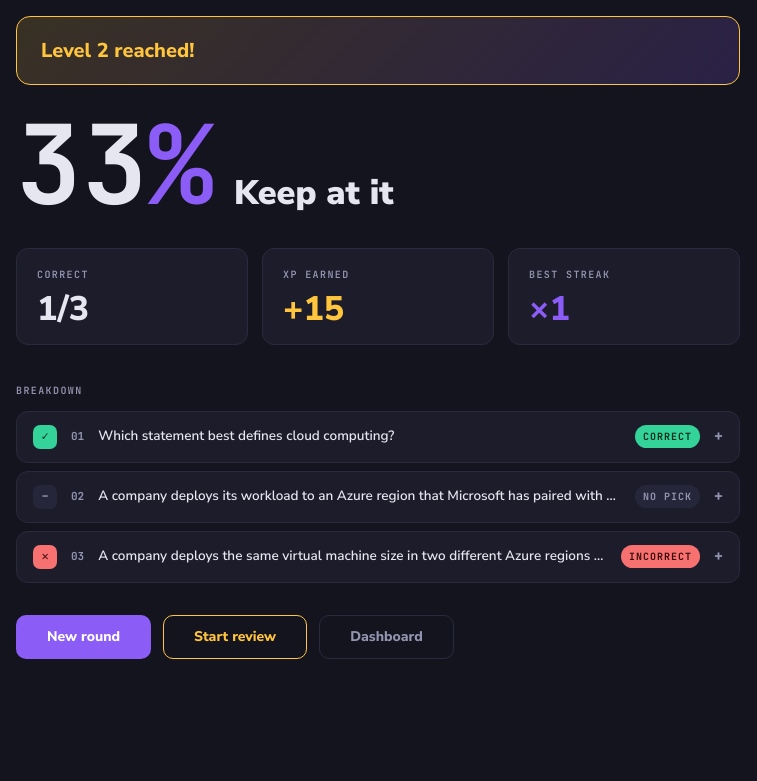
Scenario: ResultsView › renders a Round results page from the Session and its Answers, with a No pick tag for a Sprint timeout
Expected: the message "Level 2 reached!" is shown, [16,16,740,85]
Expected: the elements with class "chip" read "Correct", "No pick", "Incorrect", in this order, [635,425,700,448]; [635,485,700,508]; [621,545,700,568]
Click the 2nd button. click: click(378, 496)
box: [17,472,739,522]
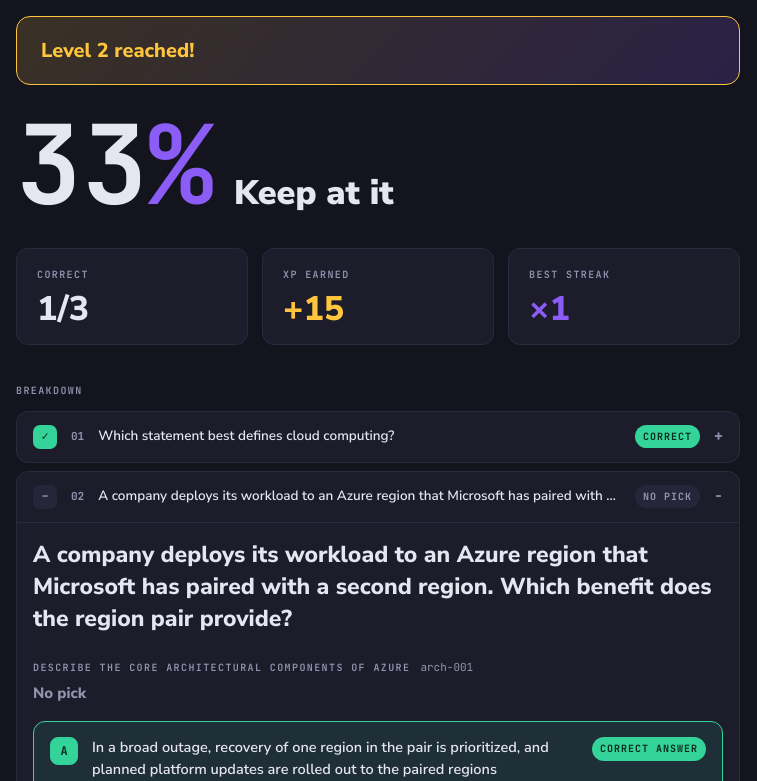
Result: the text "No pick" below "arch-001" is shown at [33,683,86,703]
